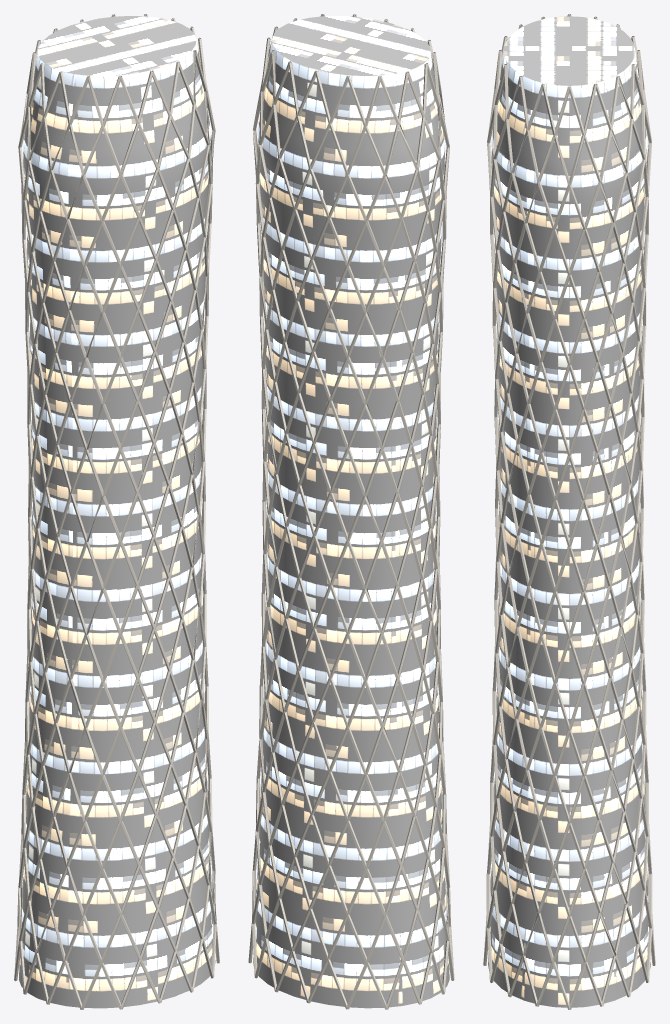
Rendered from SM_KAFD_Diagrid.fbx.
3 renders of one model, left to right at view 1: azimuth 30°, elevation 25°; view 2: azimuth 150°, elevation 25°; view 3: azimuth 270°, elevation 25°, orthographic.
Parts seen in each view (by area): view 1: SM_KAFD_Diagrid; view 2: SM_KAFD_Diagrid; view 3: SM_KAFD_Diagrid.
Boxes of the visible parts, box(x1,y1,x2,y2) form: SM_KAFD_Diagrid: box(14, 14, 219, 1009); SM_KAFD_Diagrid: box(248, 14, 454, 1009); SM_KAFD_Diagrid: box(483, 14, 655, 1009).
Bounding box in the file's own units: 5495 × 26031 × 4449.
